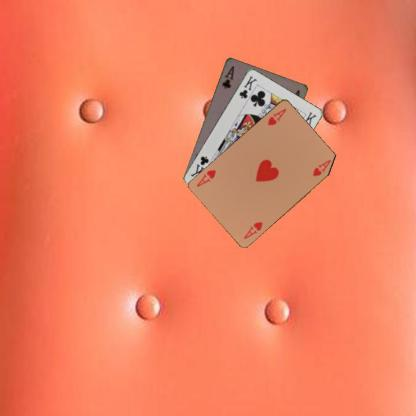Ac: (220, 63, 235, 90)
Ah: (241, 219, 264, 240), (265, 106, 287, 127)
Kc: (236, 74, 258, 100)
